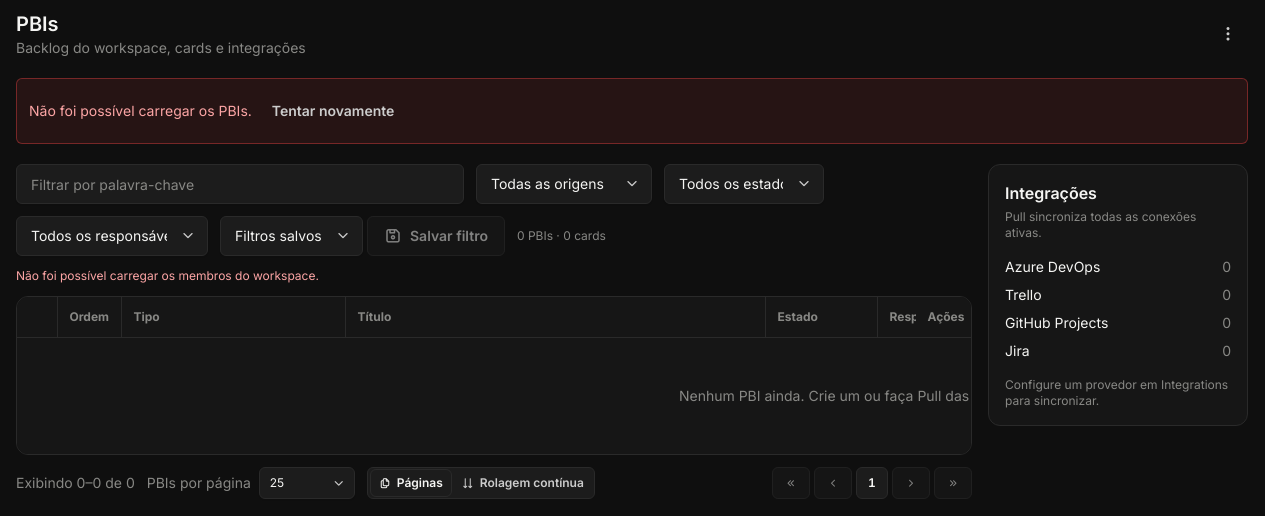
Test case: PbiView coverage: loading and actions › reports load failures and member failures, then retries
Check: the text "Não foi possível carregar os PBIs. Tentar novamente" is shown, box x1=16 y1=78 x2=1248 y2=144
Click the button "Tentar novamente": (333, 111) x1=256 y1=91 x2=410 y2=131
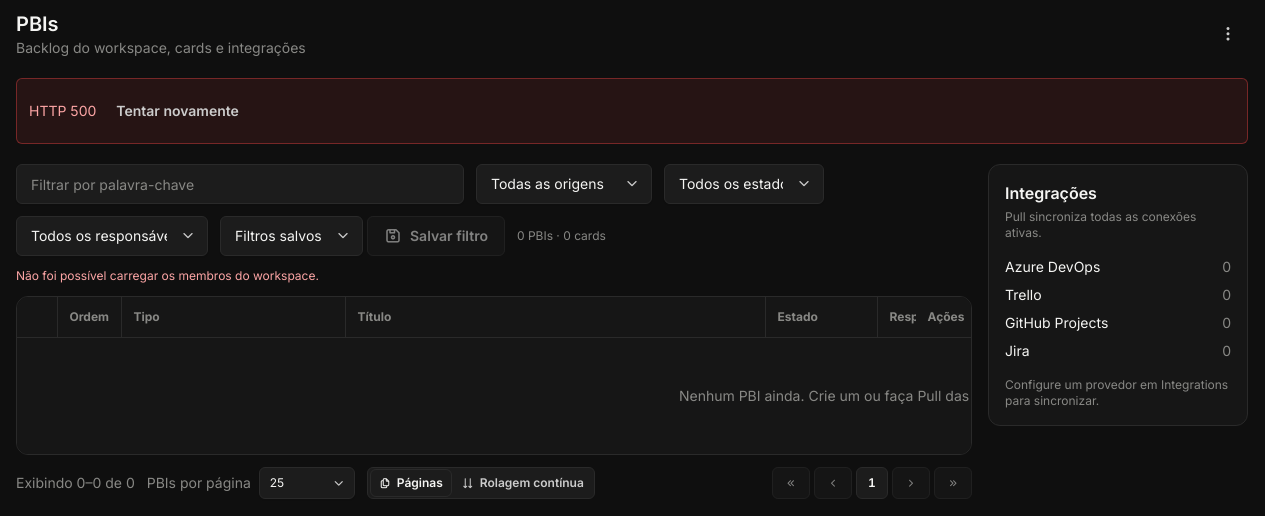
Check: the text "HTTP 500 Tentar novamente" is shown, box x1=16 y1=78 x2=1248 y2=144
Click the button "Tentar novamente": (178, 111) x1=100 y1=91 x2=255 y2=131
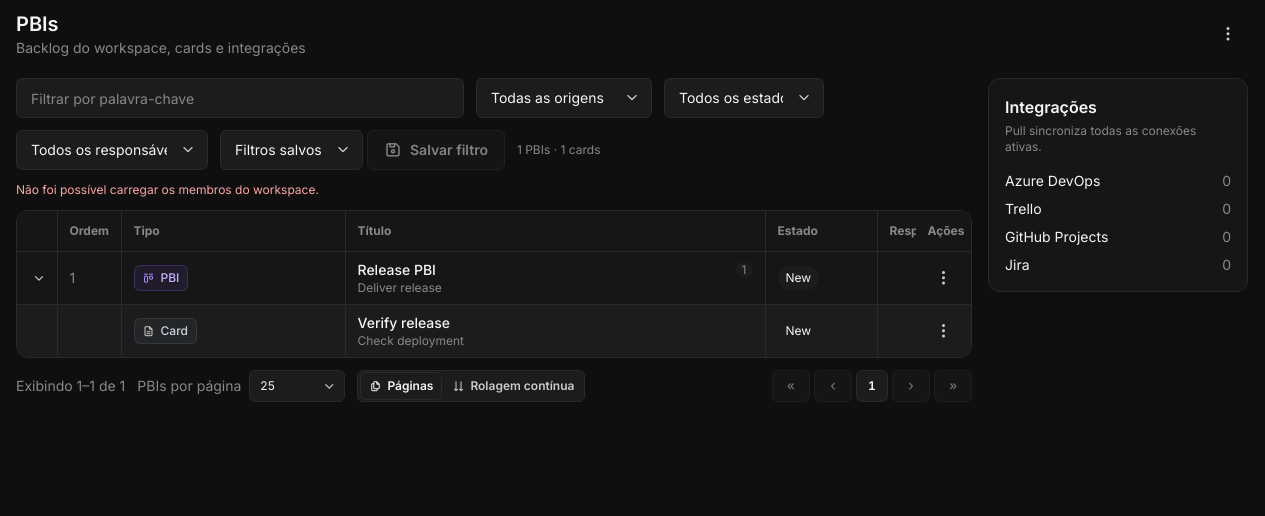
Check: the text "Não foi possível carregar os membros do workspace." is shown, box x1=16 y1=182 x2=319 y2=197
Check: the button "Release PBI" is shown, box x1=358 y1=260 x2=728 y2=280
Check: the text "HTTP 500" is gone
